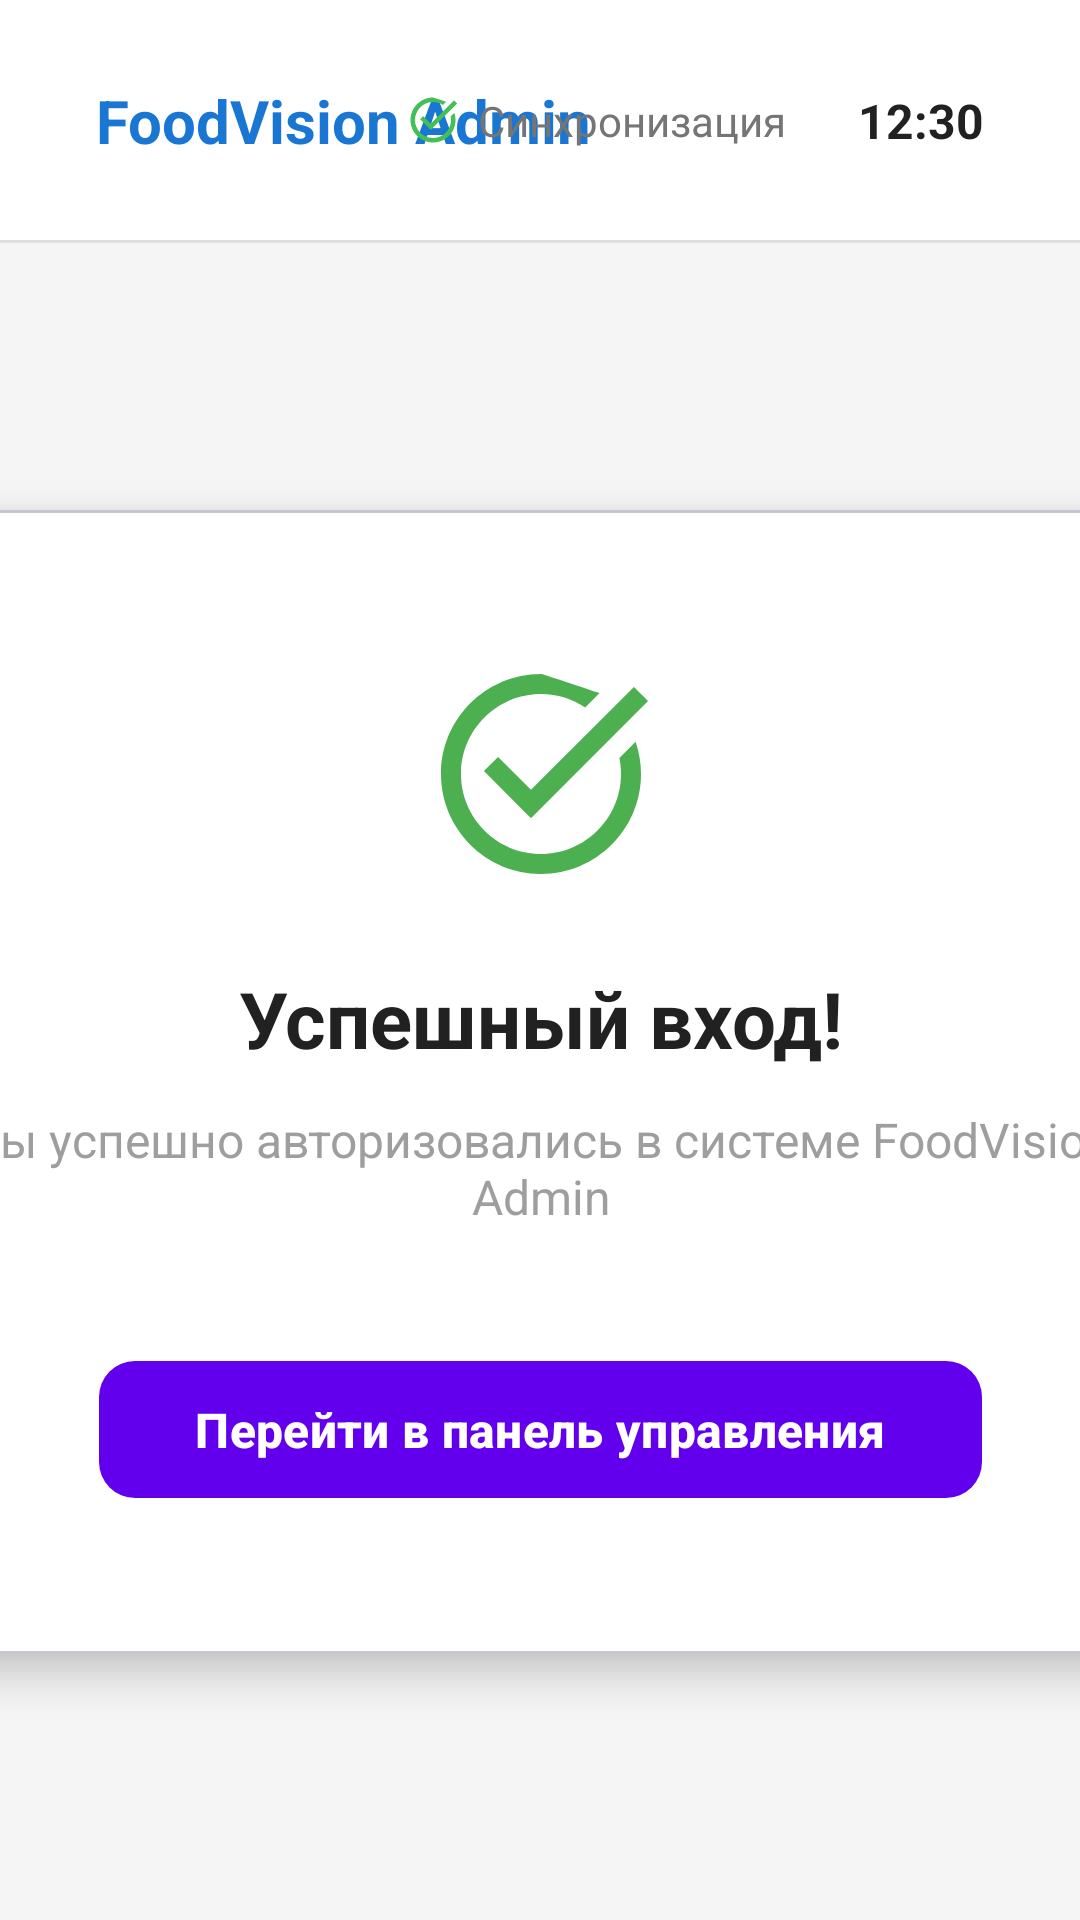

Point at icon controls on the screen. Image size 1080 x 1920, points as [x,y].
Успех: [544,774]
